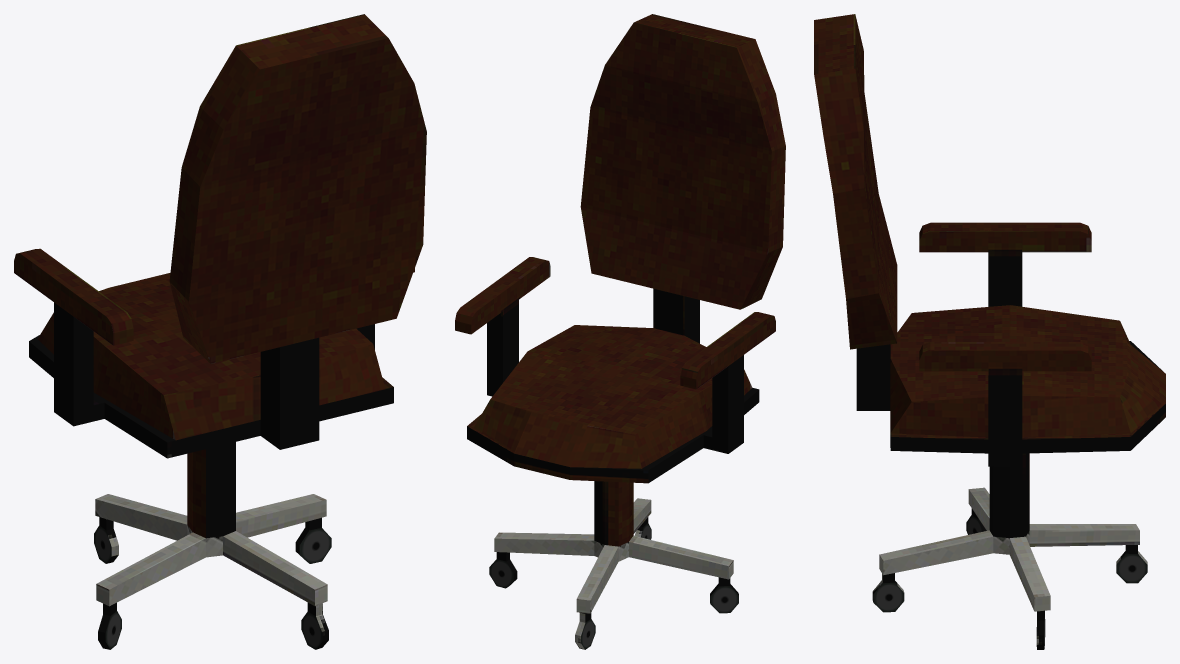
The model's file is SM_OfficeChair.fbx.
3 renders of one model, left to right at view 1: azimuth 30°, elevation 25°; view 2: azimuth 150°, elevation 25°; view 3: azimuth 270°, elevation 25°, orthographic. The views are drawn at different scales.
Visible parts, largest first — view 1: SM_OfficeChair; view 2: SM_OfficeChair; view 3: SM_OfficeChair.
Boxes of the visible parts, x1,y1,x2,y2 form: SM_OfficeChair: [14, 14, 426, 649]; SM_OfficeChair: [455, 14, 785, 649]; SM_OfficeChair: [814, 14, 1165, 649].
Size of the model in its own units: 62.91 by 127 by 73.22.
